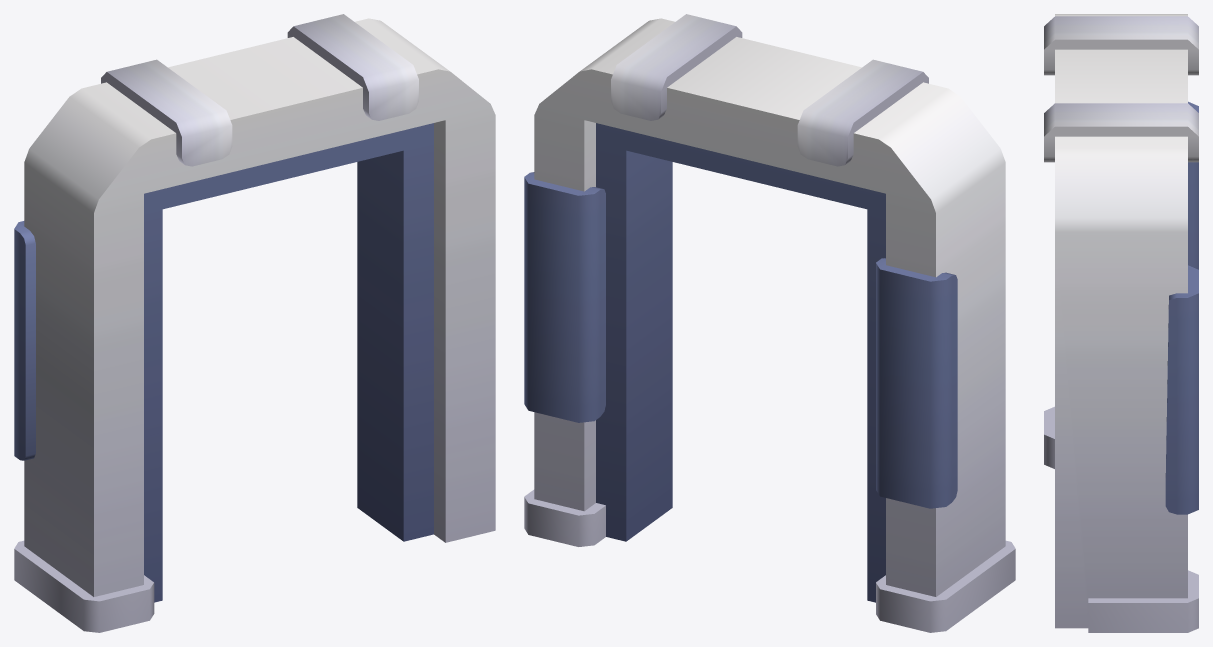
File: gate.glb
3 renders of one model, left to right at view 1: azimuth 30°, elevation 25°; view 2: azimuth 150°, elevation 25°; view 3: azimuth 270°, elevation 25°, orthographic. The views are drawn at different scales.
Parts seen in each view (by area): view 1: gate; view 2: gate; view 3: gate.
Boxes of the visible parts, <box> form: gate: <box>14,14,495,632</box>; gate: <box>524,14,1015,632</box>; gate: <box>1044,14,1198,632</box>.
Bounding box in the file's own units: 4.2 × 4.62 × 1.4.
Materials: 1 (1 with a texture image).
